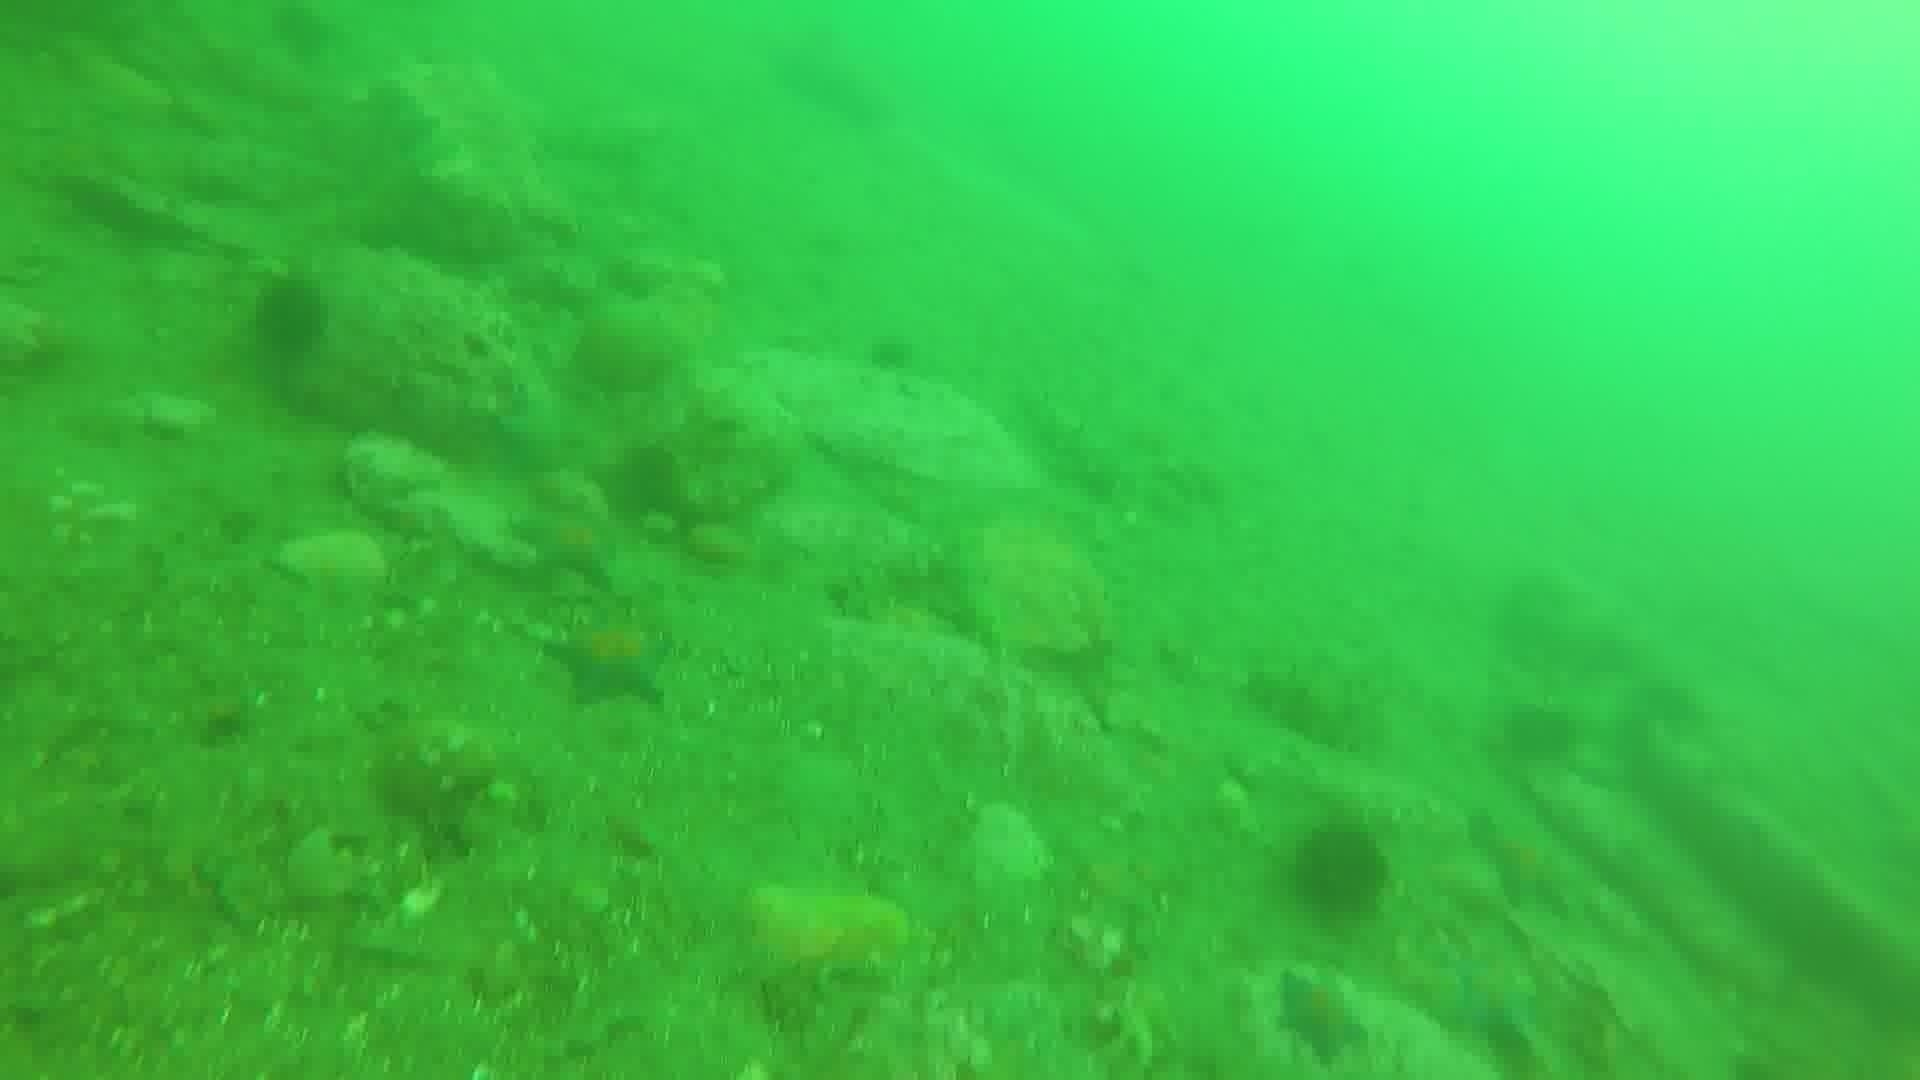echinus: (1284, 818, 1394, 924), (247, 272, 334, 363), (607, 438, 688, 520), (1495, 698, 1582, 769), (862, 328, 919, 377)
holothurian: (1240, 655, 1383, 758)
starfish: (1425, 934, 1557, 1062), (543, 607, 676, 711), (1466, 807, 1586, 919), (1267, 964, 1375, 1067), (509, 500, 629, 587)
